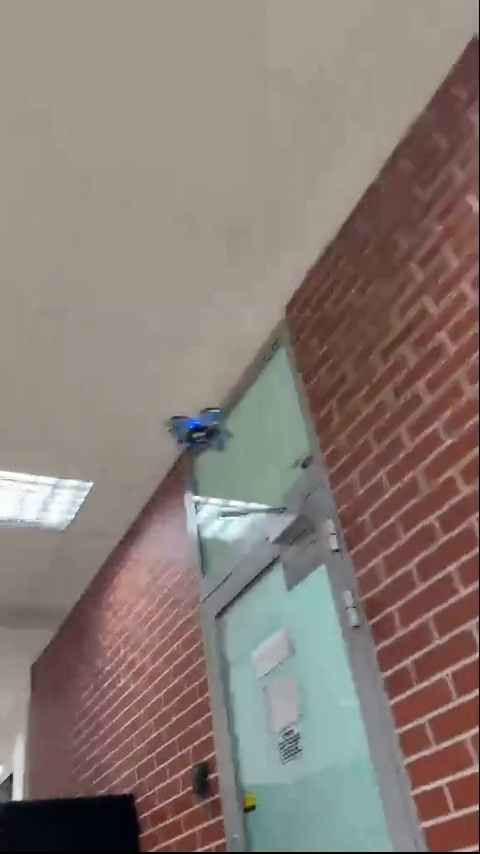drone: (164, 405, 231, 455)
